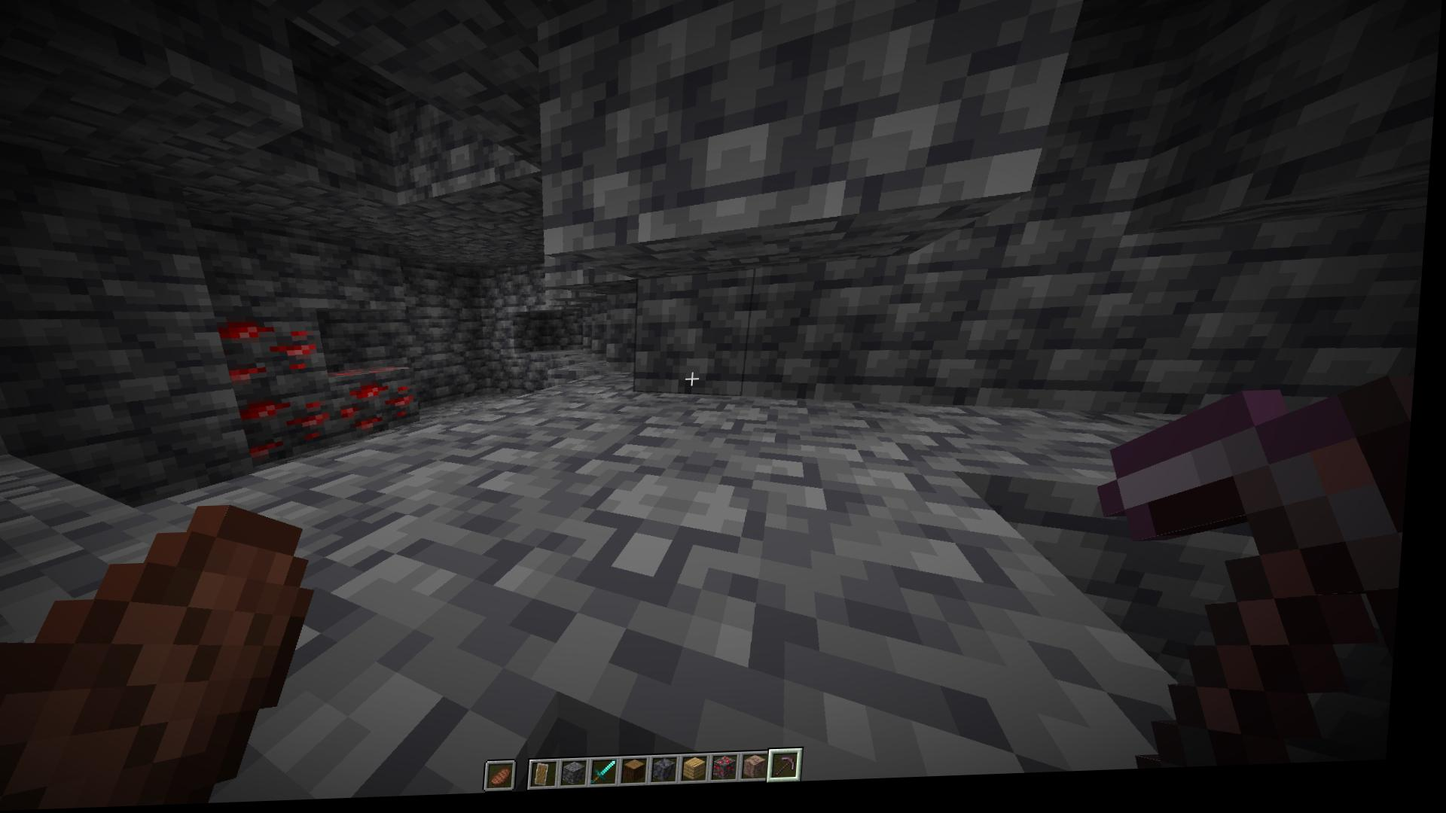redstone ore: (211, 314, 330, 389), (236, 383, 337, 459), (333, 372, 426, 439)
